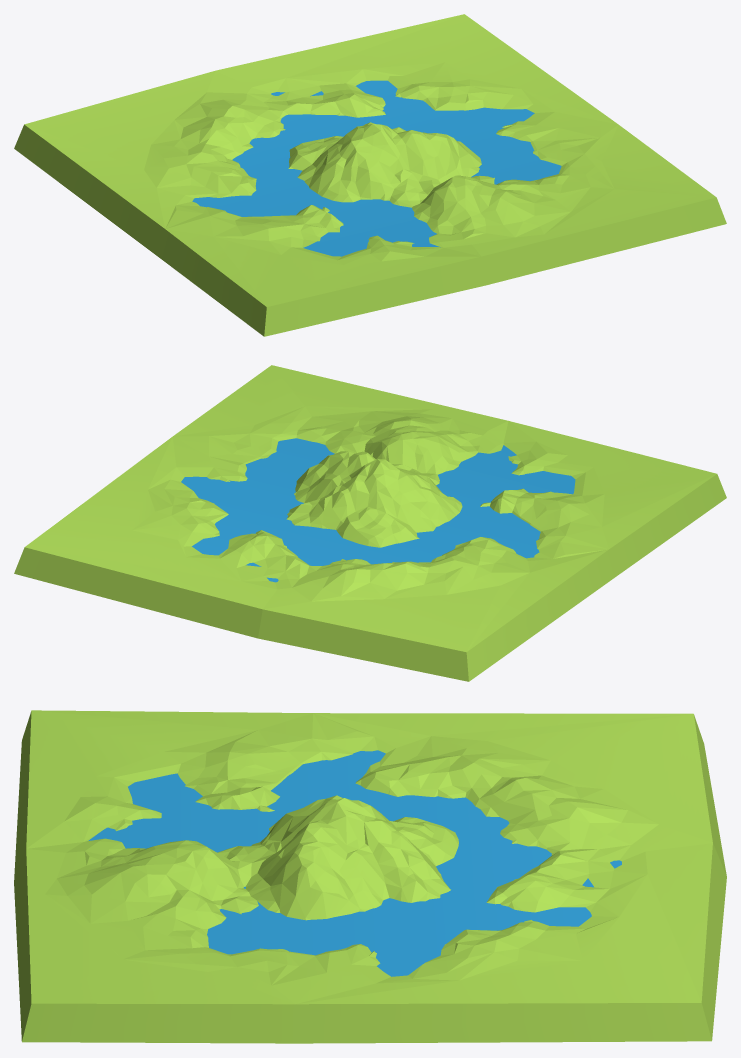
Rendered from Floor_Lake.obj.
3 views of the same model, one above another, from view 1: azimuth 30°, elevation 25°; view 2: azimuth 150°, elevation 25°; view 3: azimuth 270°, elevation 25° (orthographic). The views are drawn at different scales.
Parts seen in each view (by area): view 1: PP_Lake_Ground_04, PP_Lake_Ground_Water_04; view 2: PP_Lake_Ground_04, PP_Lake_Ground_Water_04; view 3: PP_Lake_Ground_04, PP_Lake_Ground_Water_04.
Boxes of the visible parts, left/top/right/bottom form: PP_Lake_Ground_04: left=14, top=14, right=726, bottom=336; PP_Lake_Ground_Water_04: left=192, top=80, right=561, bottom=256; PP_Lake_Ground_04: left=14, top=365, right=726, bottom=681; PP_Lake_Ground_Water_04: left=181, top=438, right=575, bottom=582; PP_Lake_Ground_04: left=14, top=710, right=726, bottom=1043; PP_Lake_Ground_Water_04: left=88, top=750, right=621, bottom=976.
Size of the model in its own units: 24.77 by 3.51 by 24.62.
1 material, 1 textured.
